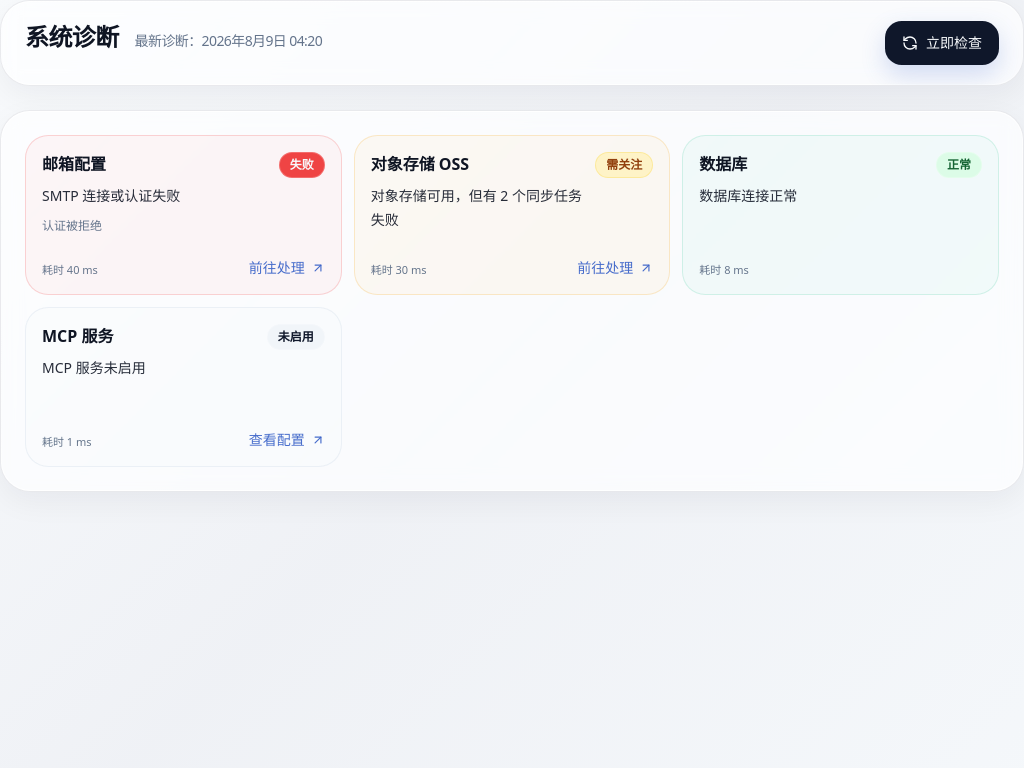
DiagnosticsPage › shows a clear error when an immediate check cannot be started
Check: the text "SMTP 连接或认证失败" is shown, box [42, 184, 180, 208]
What coordinates should you click on to do the following:
click the button "立即检查"
I would click on:
 (942, 43)
Its box is [885, 21, 999, 65].
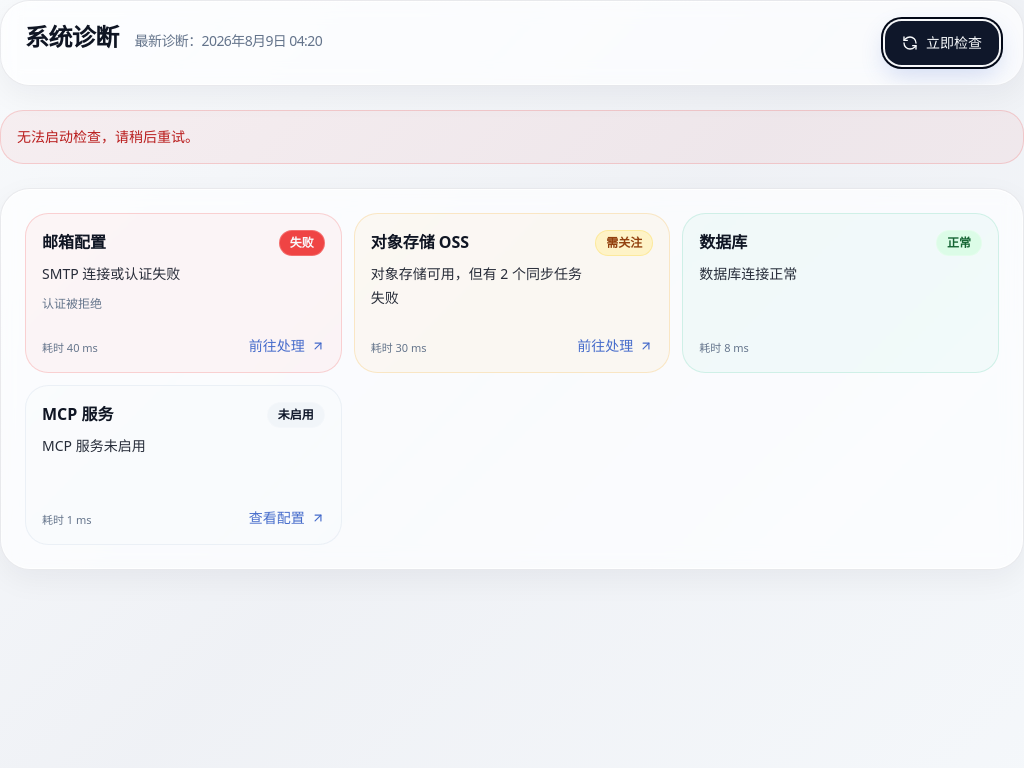
Check: the text "无法启动检查，请稍后重试。" is shown, box [0, 110, 1023, 164]
